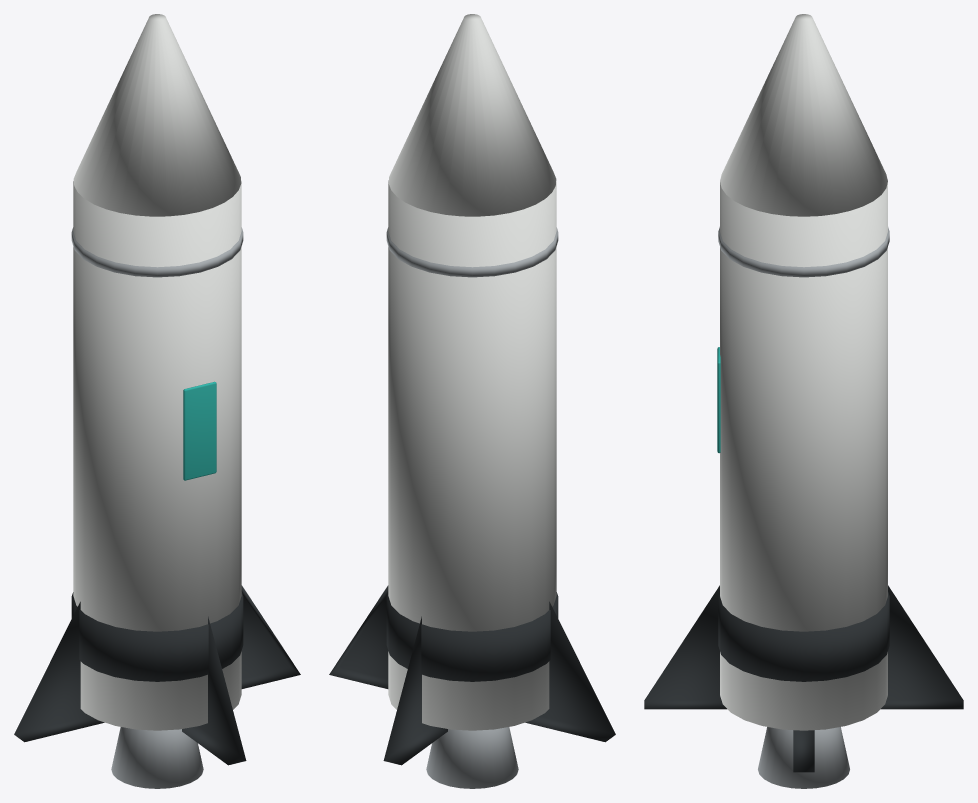
Rendered from rocket.glb.
3 views of the same model, side by side, from view 1: azimuth 30°, elevation 25°; view 2: azimuth 150°, elevation 25°; view 3: azimuth 270°, elevation 25° (orthographic).
Parts seen in each view (by area): view 1: Rocket body, Nose cone, Service band, Stabilizer.002, Engine bell, Stabilizer.003, Identification panel, Stabilizer, Upper seam; view 2: Rocket body, Nose cone, Service band, Stabilizer.002, Engine bell, Stabilizer.001, Stabilizer, Upper seam; view 3: Rocket body, Nose cone, Service band, Stabilizer.001, Stabilizer.003, Engine bell, Upper seam, Stabilizer.
Part boxes in pixels (<box>): Rocket body: <box>73,180,241,730</box>; Nose cone: <box>73,14,241,216</box>; Service band: <box>71,592,243,681</box>; Stabilizer.002: <box>14,601,104,742</box>; Engine bell: <box>111,727,203,788</box>; Stabilizer.003: <box>182,616,246,765</box>; Identification panel: <box>183,381,216,480</box>; Stabilizer: <box>241,585,300,688</box>; Upper seam: <box>71,227,243,277</box>; Rocket body: <box>388,180,556,730</box>; Nose cone: <box>388,14,556,216</box>; Service band: <box>386,592,558,681</box>; Stabilizer.002: <box>525,601,615,742</box>; Engine bell: <box>426,727,518,788</box>; Stabilizer.001: <box>383,616,447,765</box>; Stabilizer: <box>329,585,388,688</box>; Upper seam: <box>386,227,558,277</box>; Rocket body: <box>720,182,887,730</box>; Nose cone: <box>720,14,887,216</box>; Service band: <box>718,592,889,681</box>; Stabilizer.001: <box>881,585,963,709</box>; Stabilizer.003: <box>644,585,726,709</box>; Engine bell: <box>758,727,849,788</box>; Upper seam: <box>718,227,889,277</box>; Stabilizer: <box>793,730,814,772</box>.
Size of the model in its own units: 0.76 by 1.98 by 0.76.
